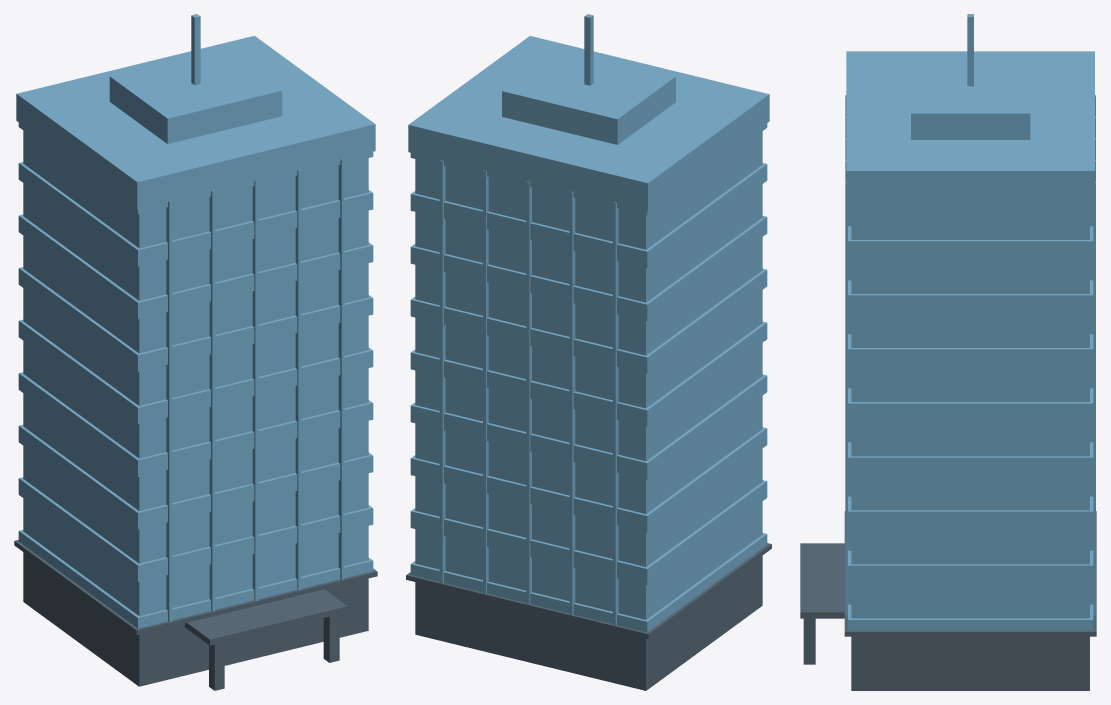
Rendered from parcel_3.glb.
3 renders of one model, left to right at view 1: azimuth 30°, elevation 25°; view 2: azimuth 150°, elevation 25°; view 3: azimuth 270°, elevation 25°, orthographic. The views are drawn at different scales.
Visible parts, largest first — view 1: Floor_8, Floor_0, Floor_4, Floor_6, Floor_7, Floor_2, Floor_5, Floor_1, Floor_3; view 2: Floor_8, Floor_0, Floor_1, Floor_2, Floor_3, Floor_7, Floor_5, Floor_4, Floor_6; view 3: Floor_8, Floor_0, Floor_1, Floor_2, Floor_3, Floor_4, Floor_5, Floor_6, Floor_7.
Boxes of the visible parts, bbox=[...] form: Floor_8: bbox=[16, 14, 375, 260]; Floor_0: bbox=[14, 540, 377, 690]; Floor_4: bbox=[18, 331, 373, 470]; Floor_6: bbox=[18, 226, 373, 365]; Floor_7: bbox=[18, 174, 373, 313]; Floor_2: bbox=[18, 436, 373, 575]; Floor_5: bbox=[18, 279, 373, 418]; Floor_1: bbox=[18, 489, 373, 628]; Floor_3: bbox=[18, 384, 373, 523]; Floor_8: bbox=[408, 14, 769, 262]; Floor_0: bbox=[406, 543, 771, 690]; Floor_1: bbox=[410, 492, 767, 632]; Floor_2: bbox=[410, 439, 767, 579]; Floor_3: bbox=[410, 386, 767, 526]; Floor_7: bbox=[410, 175, 767, 315]; Floor_5: bbox=[410, 280, 767, 420]; Floor_4: bbox=[410, 333, 767, 473]; Floor_6: bbox=[410, 228, 767, 367]; Floor_8: bbox=[845, 14, 1095, 251]; Floor_0: bbox=[800, 511, 1096, 690]; Floor_1: bbox=[845, 561, 1095, 630]; Floor_2: bbox=[845, 507, 1095, 576]; Floor_3: bbox=[845, 453, 1095, 522]; Floor_4: bbox=[845, 399, 1095, 468]; Floor_5: bbox=[845, 345, 1095, 414]; Floor_6: bbox=[845, 291, 1095, 360]; Floor_7: bbox=[845, 237, 1095, 306].
Size of the model in its own units: 16.8 by 40 by 17.4.
